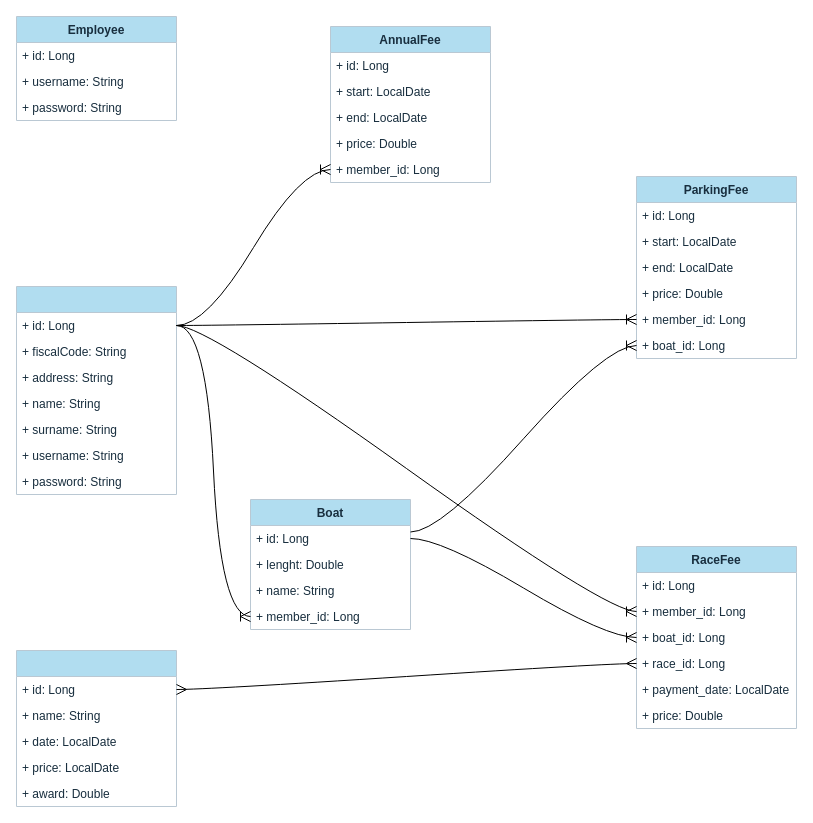
The diagram is 813 pixels wide and 823 high, and some of its shapes have lost their labels. The shapes that lost their labels are listed below. From the top down, each one's box as (x1, y1, x2, y2) in pixels, then its label:
(16, 286, 176, 494): Member
(16, 650, 176, 806): Race
